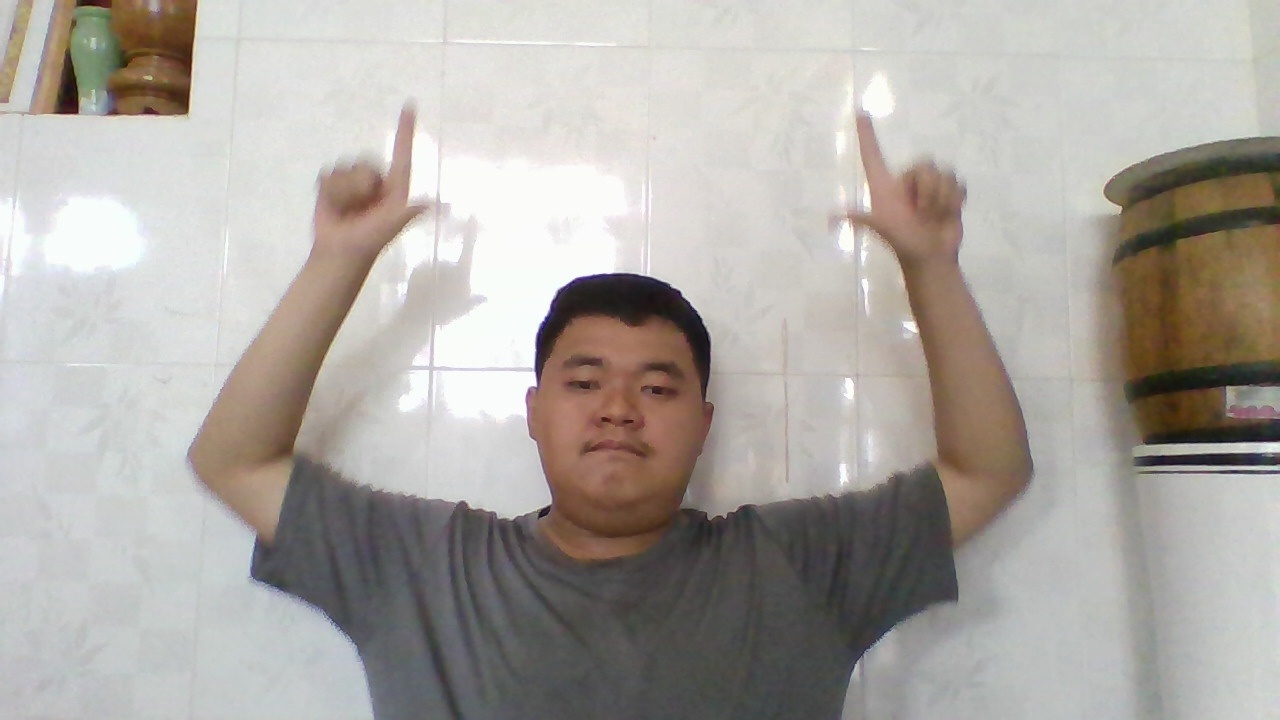L: (818, 100, 975, 274), (311, 95, 439, 264)
